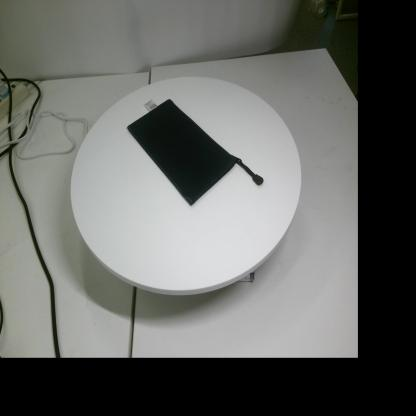Stationery: (127, 99, 264, 205)
